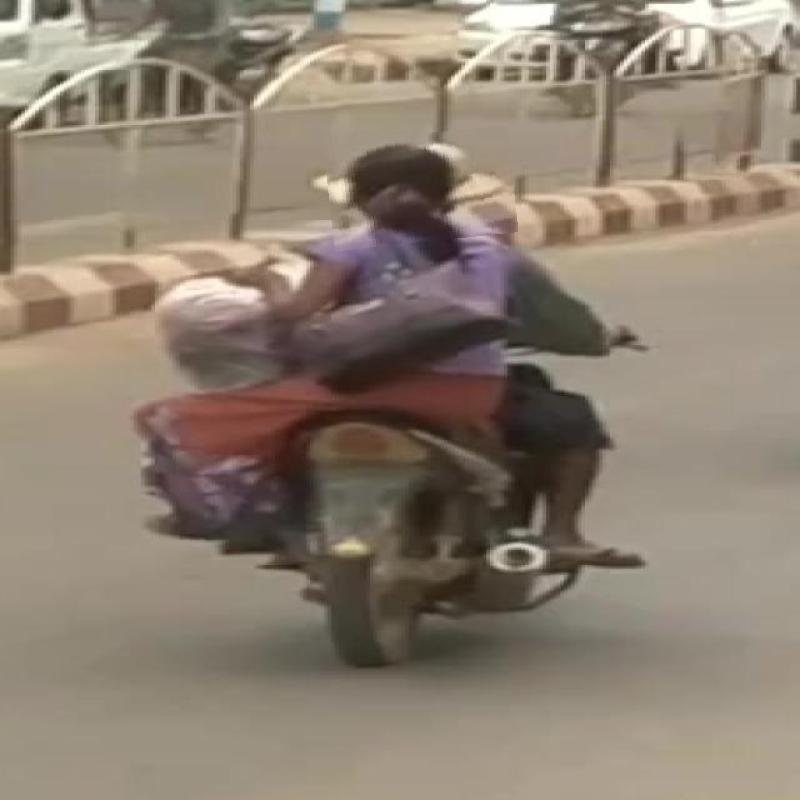nohelmet: (326, 130, 516, 246)
